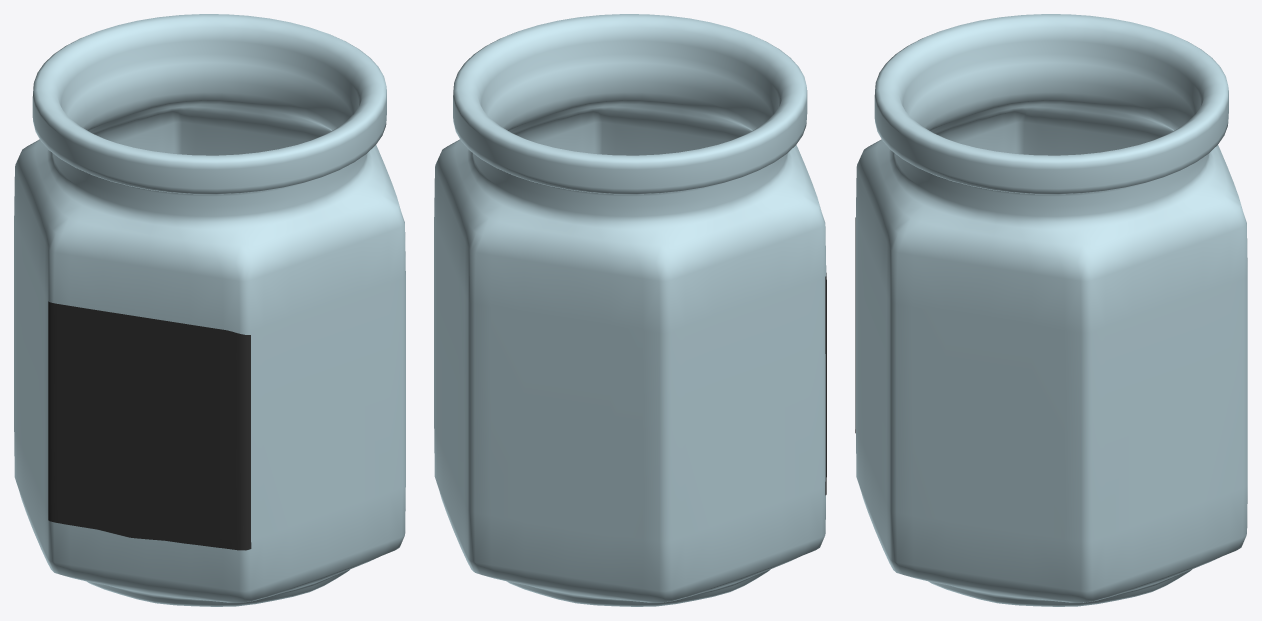
The model's file is VP_Kitchen_Jar_2_Body.FBX.
3 views of the same model, side by side, from view 1: azimuth 30°, elevation 25°; view 2: azimuth 150°, elevation 25°; view 3: azimuth 270°, elevation 25° (orthographic).
Parts seen in each view (by area): view 1: VP_Kitchen_Jar_2_Body; view 2: VP_Kitchen_Jar_2_Body; view 3: VP_Kitchen_Jar_2_Body.
Part boxes in pixels (x1=…): VP_Kitchen_Jar_2_Body: x1=14, y1=14, x2=405, y2=606; VP_Kitchen_Jar_2_Body: x1=434, y1=14, x2=826, y2=606; VP_Kitchen_Jar_2_Body: x1=855, y1=14, x2=1247, y2=606.
Size of what is drawn, in the model's own units: 11.4 by 10.86 by 13.92.
